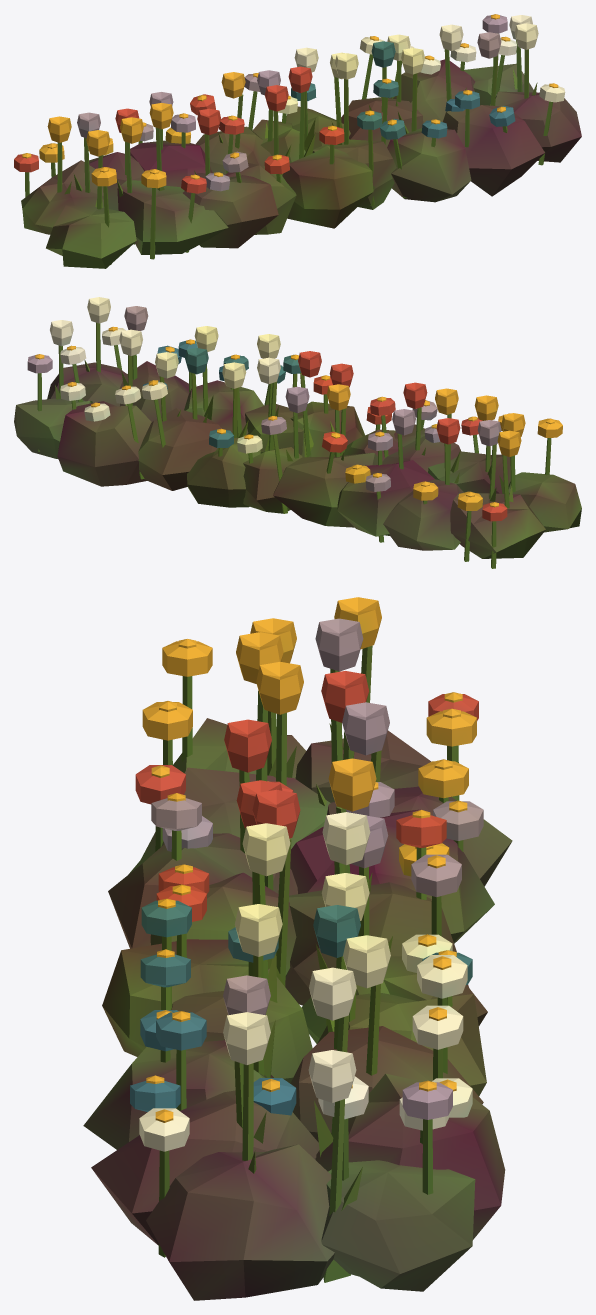
The model's file is FlowerBed_Grass_Long_01.glb.
3 renders of one model, top to bottom at view 1: azimuth 30°, elevation 25°; view 2: azimuth 150°, elevation 25°; view 3: azimuth 270°, elevation 25°, orthographic. The views are drawn at different scales.
Parts seen in each view (by area): view 1: FlowerBed_Grass_Long_01; view 2: FlowerBed_Grass_Long_01; view 3: FlowerBed_Grass_Long_01.
Part boxes in pixels (x1,y1,x2,y2): FlowerBed_Grass_Long_01: (14,14,581,268); FlowerBed_Grass_Long_01: (14,297,581,568); FlowerBed_Grass_Long_01: (83,597,512,1300).
Size of the model in its own units: 2.46 by 0.6497 by 0.8726.
